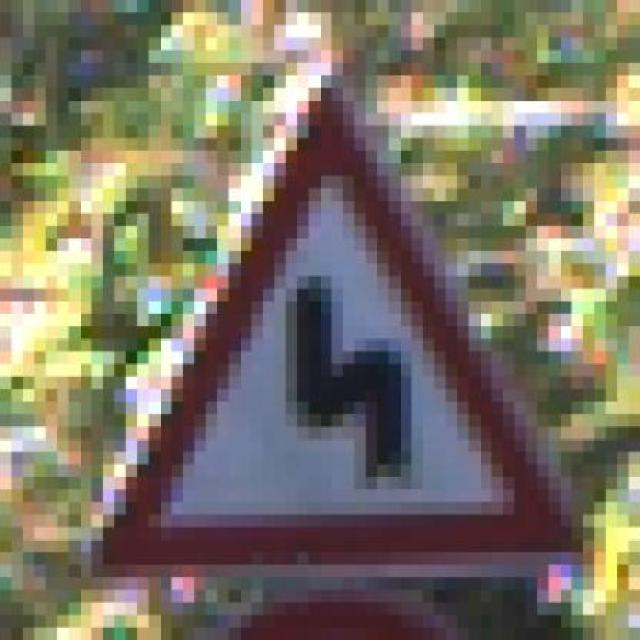Left Zig Zag Traffic: (68, 75, 594, 578)
